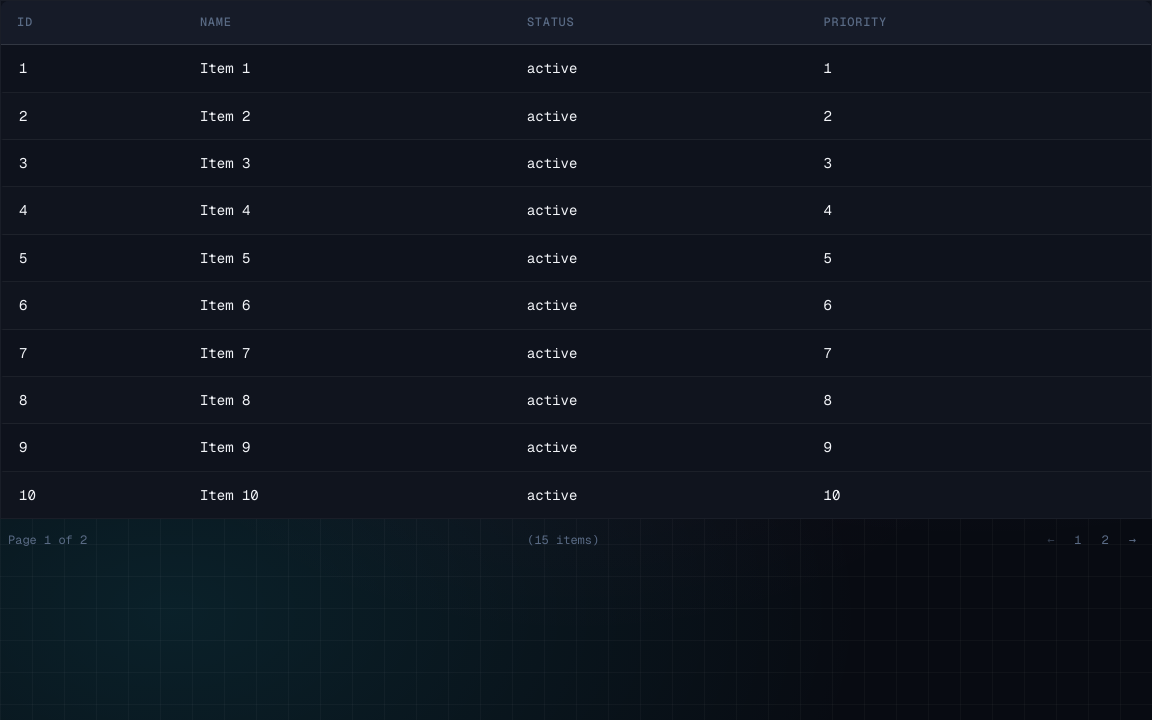
Scenario: DataTable › navigates between pages
Click the button named "Next page". click: (1132,541)
box: x1=1121 y1=527 x2=1144 y2=554
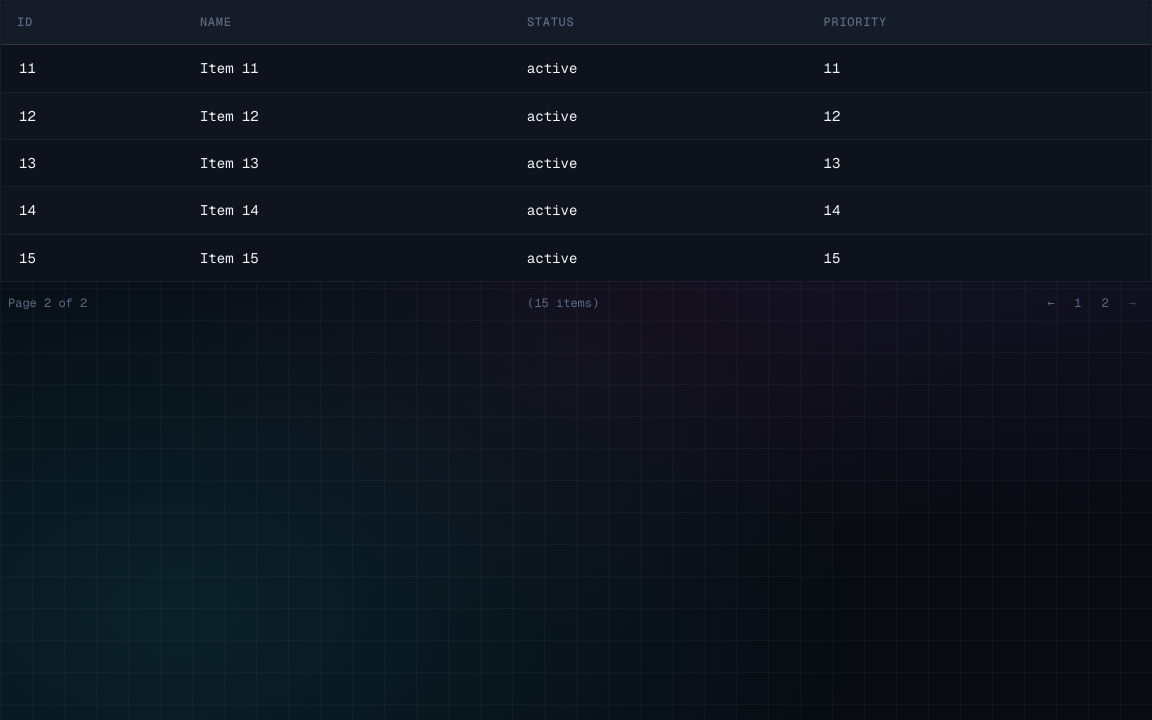
Now the text "Page 2 of 2" is shown, box x1=8 y1=294 x2=87 y2=313
